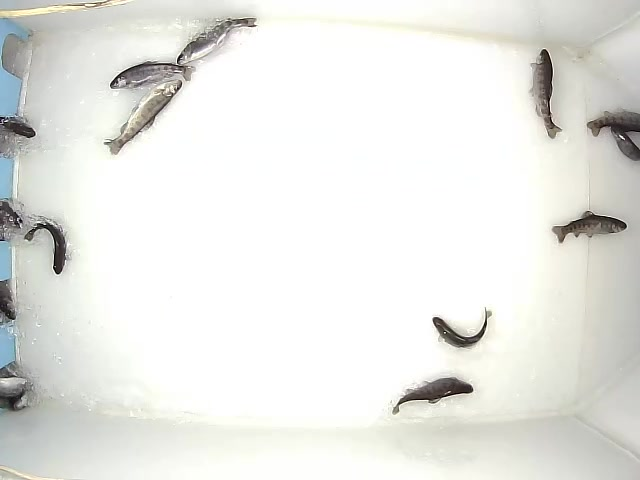fish: (102, 79, 182, 156), (177, 17, 258, 65), (392, 377, 474, 415), (530, 49, 562, 139), (432, 307, 492, 349), (551, 211, 627, 244), (110, 61, 196, 89), (23, 223, 66, 275), (604, 110, 640, 161), (587, 110, 640, 137), (5, 365, 28, 410), (1, 120, 36, 139)
